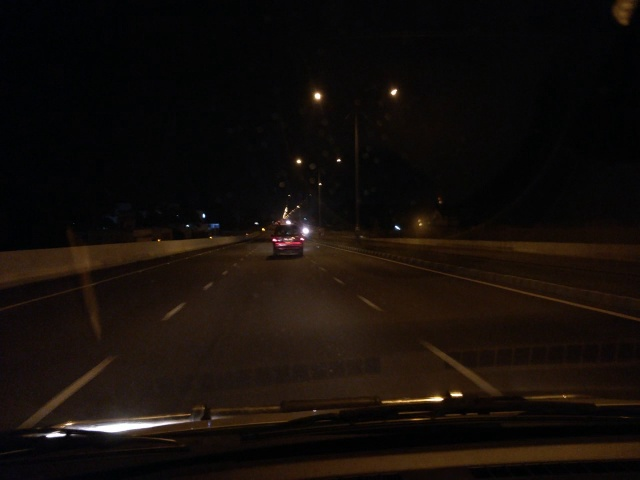car: (269, 222, 313, 258)
